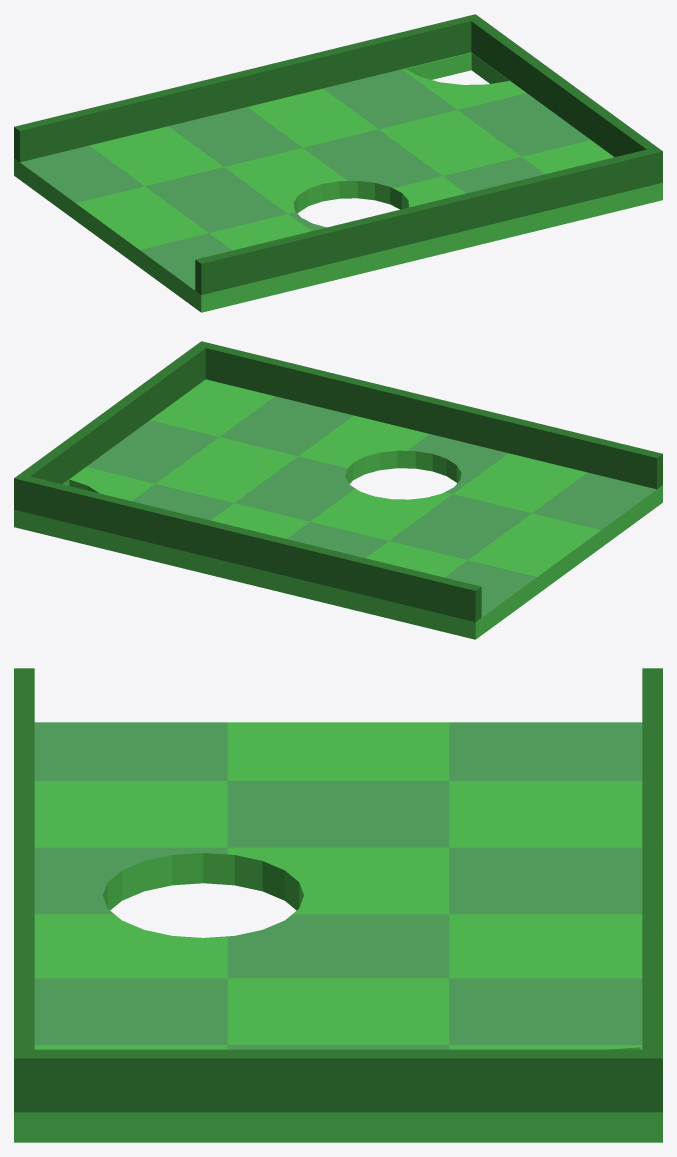
Rendered from 10floor.fbx.
3 views of the same model, one above another, from view 1: azimuth 30°, elevation 25°; view 2: azimuth 150°, elevation 25°; view 3: azimuth 270°, elevation 25° (orthographic). The views are drawn at different scales.
Visible parts, largest first — view 1: pasted__pasted__pCube8; view 2: pasted__pasted__pCube8; view 3: pasted__pasted__pCube8.
Boxes of the visible parts, x1,y1,x2,y2 form: pasted__pasted__pCube8: (14,14,662,312); pasted__pasted__pCube8: (14,341,662,639); pasted__pasted__pCube8: (14,668,662,1142).
Size of the model in its own units: 22.4 by 2.26 by 15.75.
